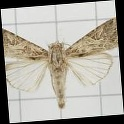Spodoptera litura: (5, 21, 119, 109)
